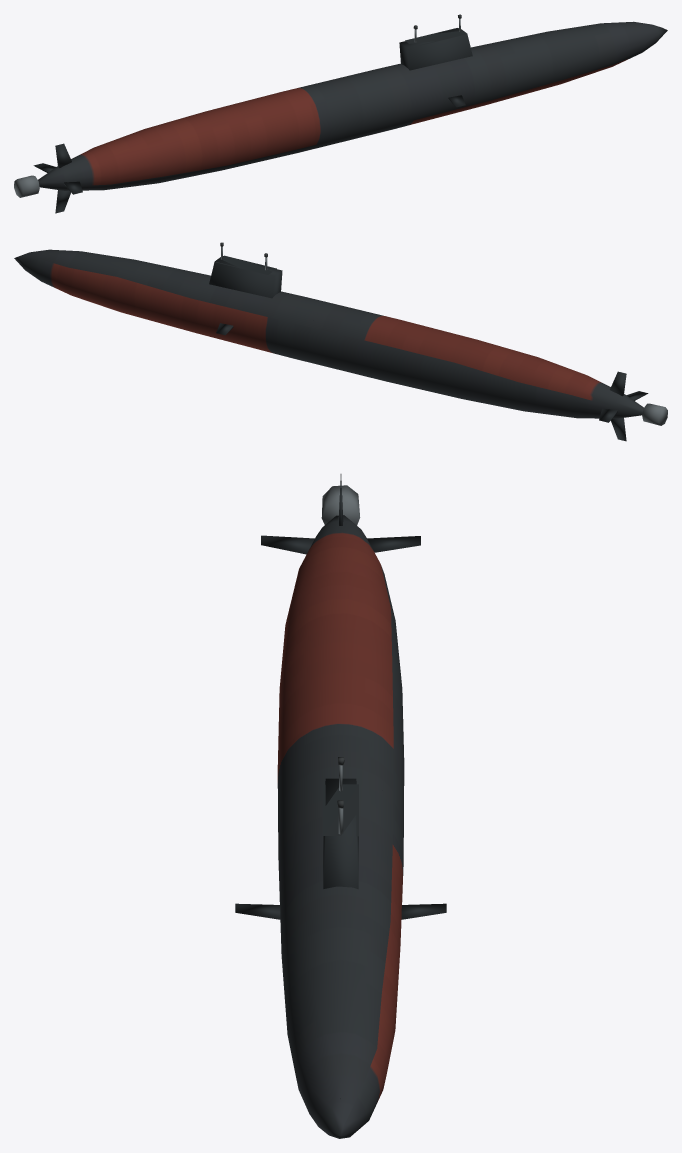
File: US_SSN_Virginia_LOD3.fbx
The picture shows the model from 3 angles, top to bottom: view 1: azimuth 30°, elevation 25°; view 2: azimuth 150°, elevation 25°; view 3: azimuth 270°, elevation 25°; orthographic projection. The views are drawn at different scales.
Visible parts, largest first — view 1: US_SSN_Virginia_LOD3; view 2: US_SSN_Virginia_LOD3; view 3: US_SSN_Virginia_LOD3.
Part boxes in pixels (<box>): US_SSN_Virginia_LOD3: <box>14,14,667,213</box>; US_SSN_Virginia_LOD3: <box>14,242,667,441</box>; US_SSN_Virginia_LOD3: <box>235,474,446,1138</box>.
Size of the model in its own units: 118 by 16.67 by 17.36.
Materials: 6 (1 with a texture image).
